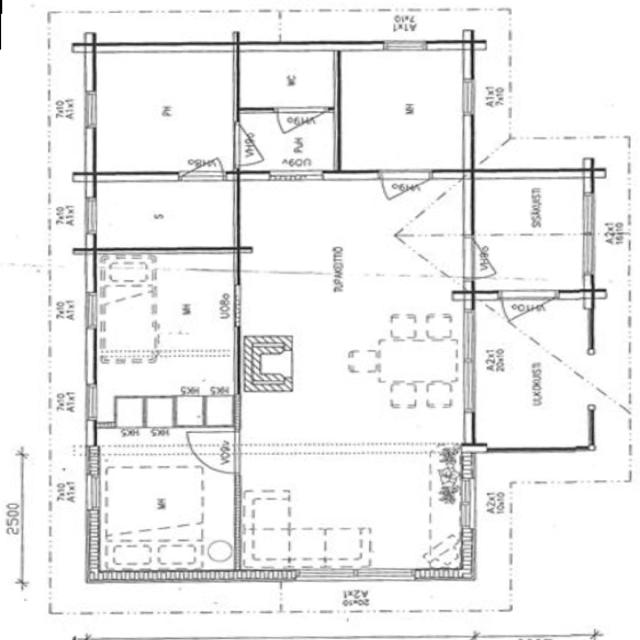door: (246, 105, 334, 170), (184, 428, 238, 477), (372, 164, 432, 201), (493, 287, 557, 318), (171, 152, 230, 184), (266, 105, 324, 136)
window: (451, 301, 485, 423), (576, 188, 600, 282), (316, 565, 420, 584), (492, 287, 556, 317), (454, 471, 482, 536), (77, 179, 103, 243), (261, 164, 327, 187), (77, 86, 104, 134), (80, 379, 106, 426), (79, 287, 104, 333), (458, 75, 482, 121), (79, 470, 102, 514), (373, 37, 429, 55)
zone: (239, 170, 469, 439), (90, 247, 239, 431), (89, 424, 239, 578), (470, 294, 596, 456), (88, 45, 237, 174), (338, 44, 472, 172), (469, 171, 592, 294), (90, 174, 237, 252), (234, 107, 342, 176), (236, 45, 340, 111)
